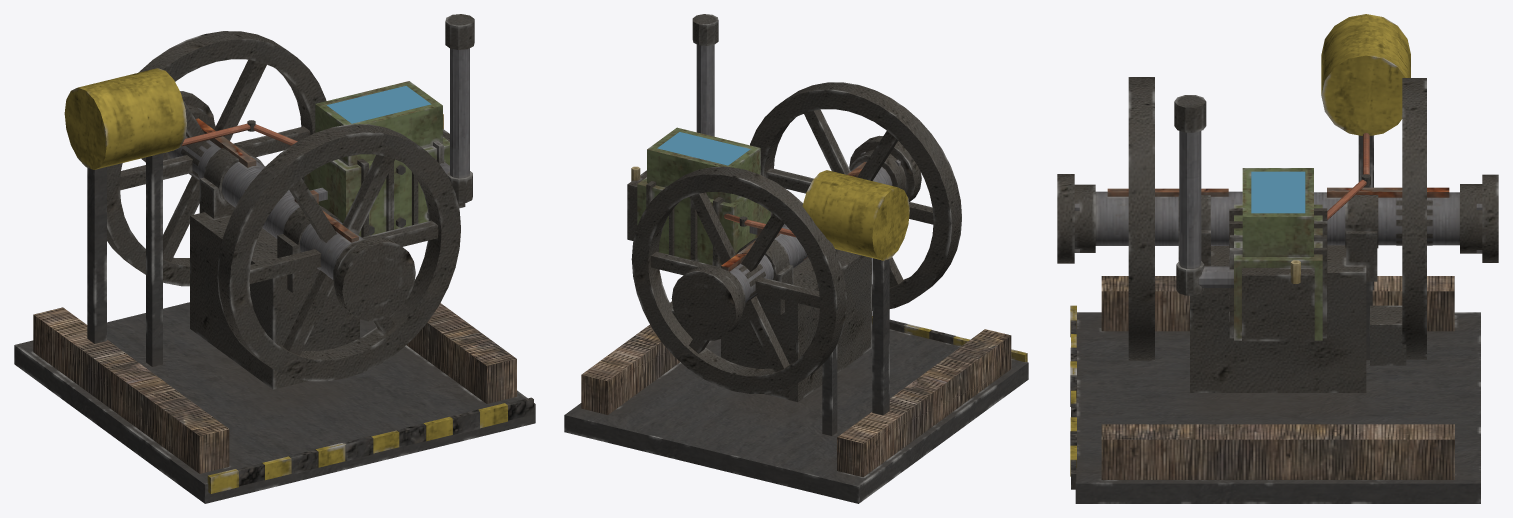
Rendered from feGasEngine_HD.fbx.
The picture shows the model from 3 angles, left to right: view 1: azimuth 30°, elevation 25°; view 2: azimuth 150°, elevation 25°; view 3: azimuth 270°, elevation 25°; orthographic projection. The views are drawn at different scales.
Parts seen in each view (by area): view 1: feGasEngine_Base, FeSpin_EngineCrank; view 2: feGasEngine_Base, FeSpin_EngineCrank; view 3: feGasEngine_Base, FeSpin_EngineCrank.
Boxes of the visible parts, box(x1,y1,x2,y2) form: feGasEngine_Base: box(14, 14, 535, 503); FeSpin_EngineCrank: box(107, 31, 460, 381); feGasEngine_Base: box(564, 14, 1028, 503); FeSpin_EngineCrank: box(631, 82, 961, 393); feGasEngine_Base: box(1070, 14, 1480, 503); FeSpin_EngineCrank: box(1057, 77, 1498, 360).
Bounding box in the file's own units: 0.951 × 0.9836 × 1.
2 materials, 1 textured.
